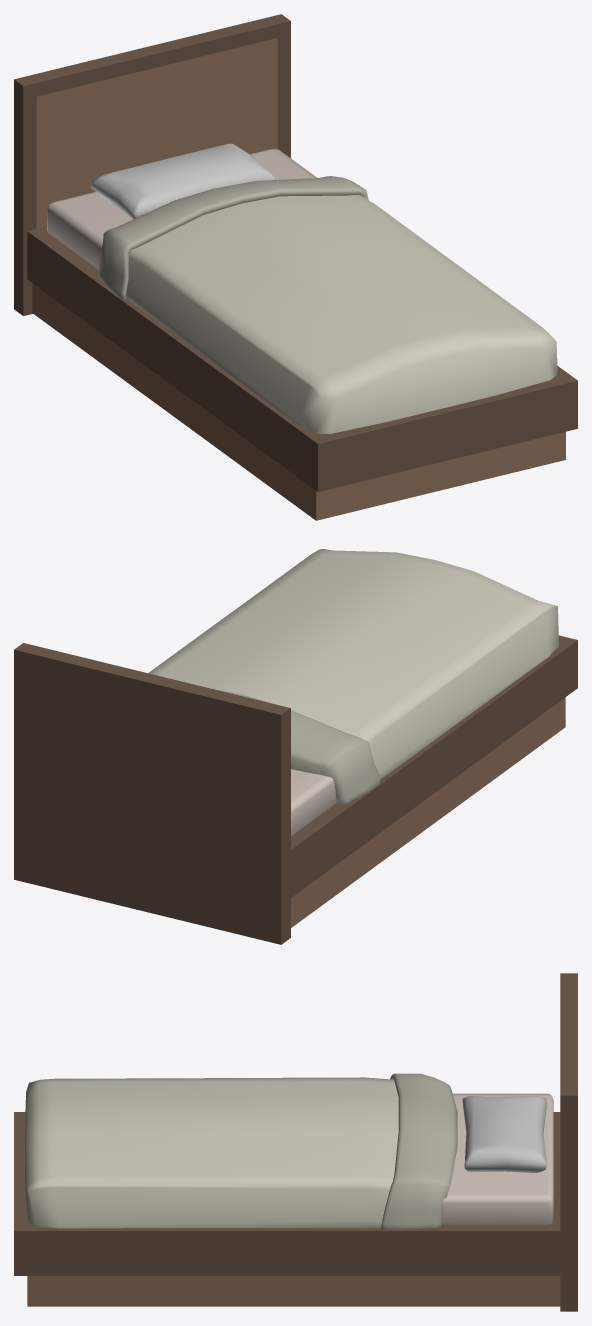
The model's file is Bed_W.fbx.
3 views of the same model, one above another, from view 1: azimuth 30°, elevation 25°; view 2: azimuth 150°, elevation 25°; view 3: azimuth 270°, elevation 25° (orthographic). The views are drawn at different scales.
Visible parts, largest first — view 1: polySurface132, polySurface135, polySurface133, polySurface134, Bed_06_Single_Pillow, polySurface136; view 2: polySurface135, polySurface132, polySurface133, polySurface134, polySurface136; view 3: polySurface132, polySurface133, polySurface134, polySurface136, Bed_06_Single_Pillow, polySurface135.
Part boxes in pixels (x1,y1,x2,y2): polySurface132: (98,176,557,433); polySurface135: (14,14,290,315); polySurface133: (27,226,577,491); polySurface134: (32,283,565,520); Bed_06_Single_Pillow: (91,143,275,219); polySurface136: (47,149,552,365); polySurface135: (14,643,290,944); polySurface132: (148,549,558,804); polySurface133: (291,635,577,897); polySurface134: (291,697,565,927); polySurface136: (291,769,336,835); polySurface132: (24,1073,457,1230); polySurface133: (14,1112,560,1275); polySurface134: (27,1276,560,1306); polySurface136: (32,1093,553,1224); Bed_06_Single_Pillow: (462,1095,546,1173); polySurface135: (560,973,577,1311).
Bounding box in the file's own units: 104 × 85.3 × 202.
